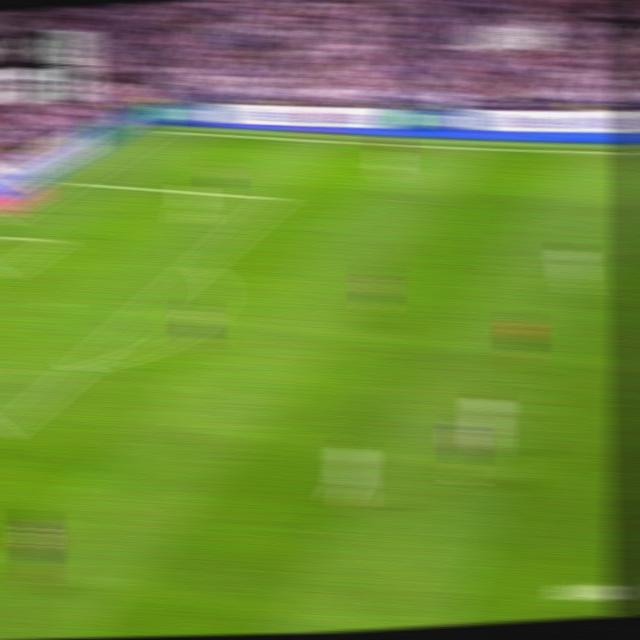bigarea_top_inner: (262, 189, 287, 207)
bigarea_top_outter: (59, 173, 84, 188)
bottom_arc_area_intersection: (66, 354, 94, 378)
corner: (144, 124, 168, 136)
smallarea_top_inner: (42, 234, 65, 248)
top_arc_area_intersection: (189, 256, 210, 270)
